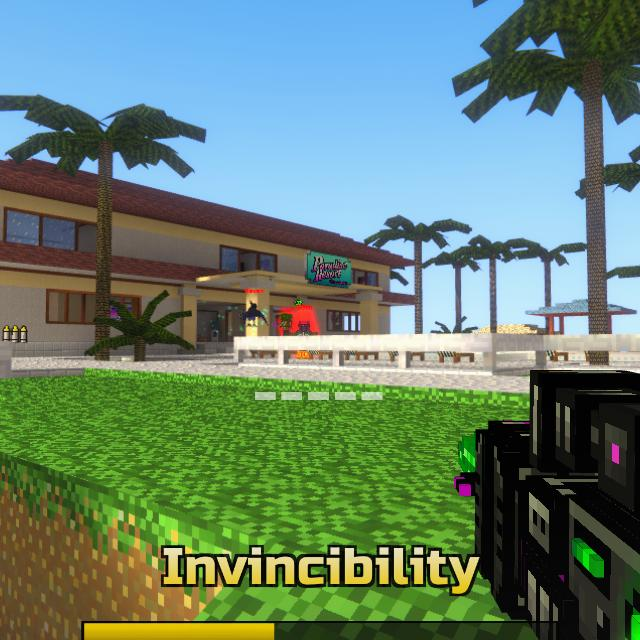Enemy: (278, 312, 294, 335), (296, 319, 318, 333)
